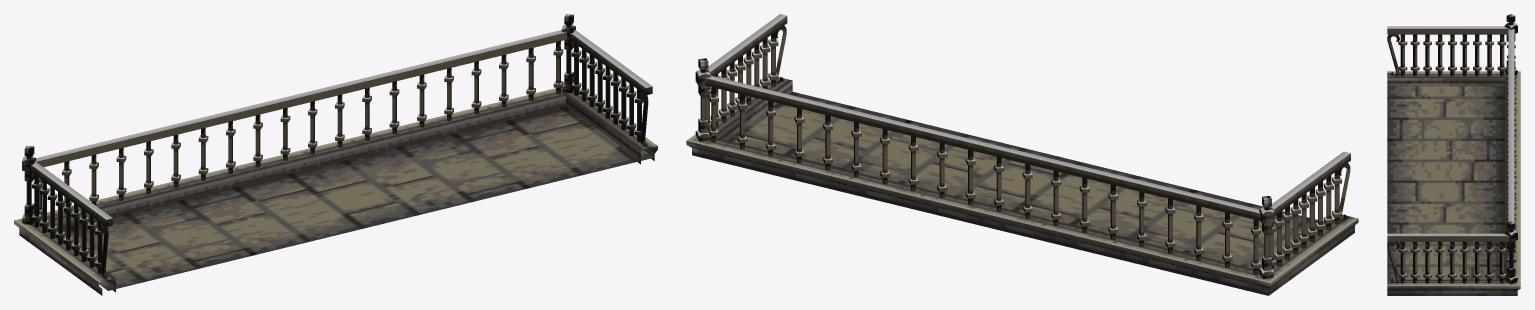
File: EnvBdgMD_City_A_Outdoor_Bar_Balcony.FBX
The picture shows the model from 3 angles, left to right: view 1: azimuth 30°, elevation 25°; view 2: azimuth 150°, elevation 25°; view 3: azimuth 270°, elevation 25°; orthographic projection. The views are drawn at different scales.
Parts seen in each view (by area): view 1: EnvBdgMD_City_A_Outdoor_Bar_Balcony; view 2: EnvBdgMD_City_A_Outdoor_Bar_Balcony; view 3: EnvBdgMD_City_A_Outdoor_Bar_Balcony.
Part boxes in pixels (x1,y1,x2,y2): EnvBdgMD_City_A_Outdoor_Bar_Balcony: (14,14,657,295); EnvBdgMD_City_A_Outdoor_Bar_Balcony: (686,14,1358,295); EnvBdgMD_City_A_Outdoor_Bar_Balcony: (1387,14,1520,295).
Size of the model in its own units: 818 by 125 by 215.
